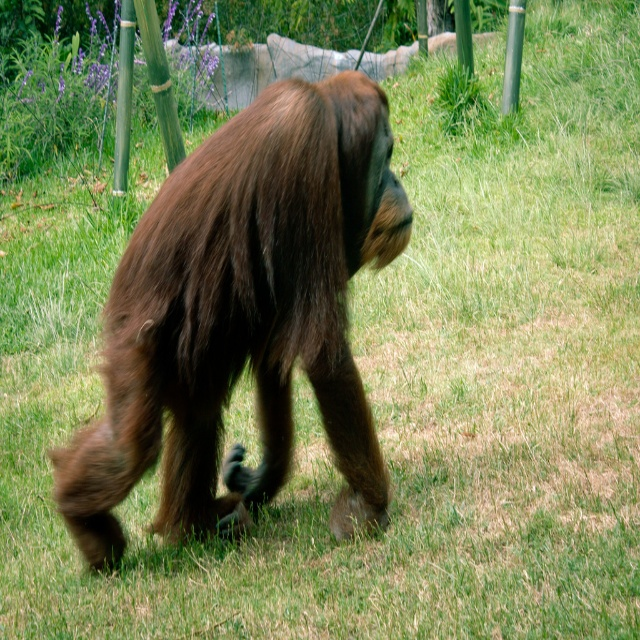Monkey: (45, 70, 413, 587)
